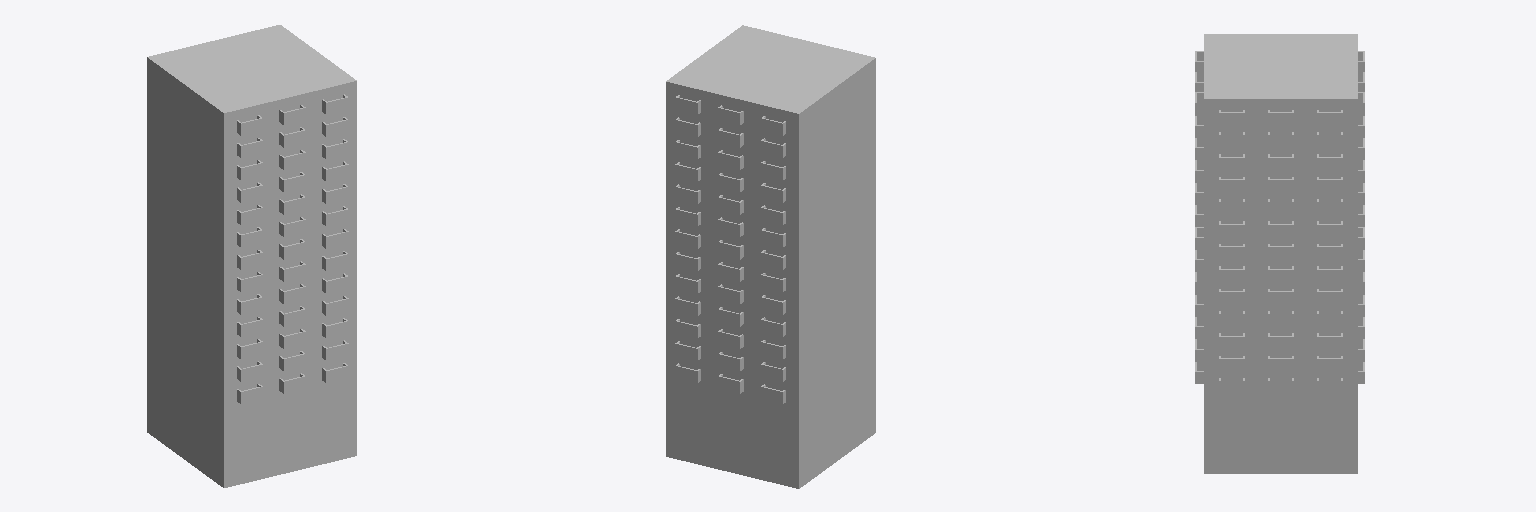
The model's file is HDB.obj.
The picture shows the model from 3 angles: view 1: azimuth 30°, elevation 25°; view 2: azimuth 150°, elevation 25°; view 3: azimuth 270°, elevation 25°; orthographic projection.
Visible parts, largest first — view 1: pCube87; view 2: pCube87; view 3: pCube87.
Boxes of the visible parts, x1=… form: pCube87: x1=147, y1=25, x2=356, y2=487; pCube87: x1=666, y1=25, x2=875, y2=488; pCube87: x1=1195, y1=34, x2=1364, y2=473.
Bounding box in the file's own units: 6.56 × 16.77 × 6.85.